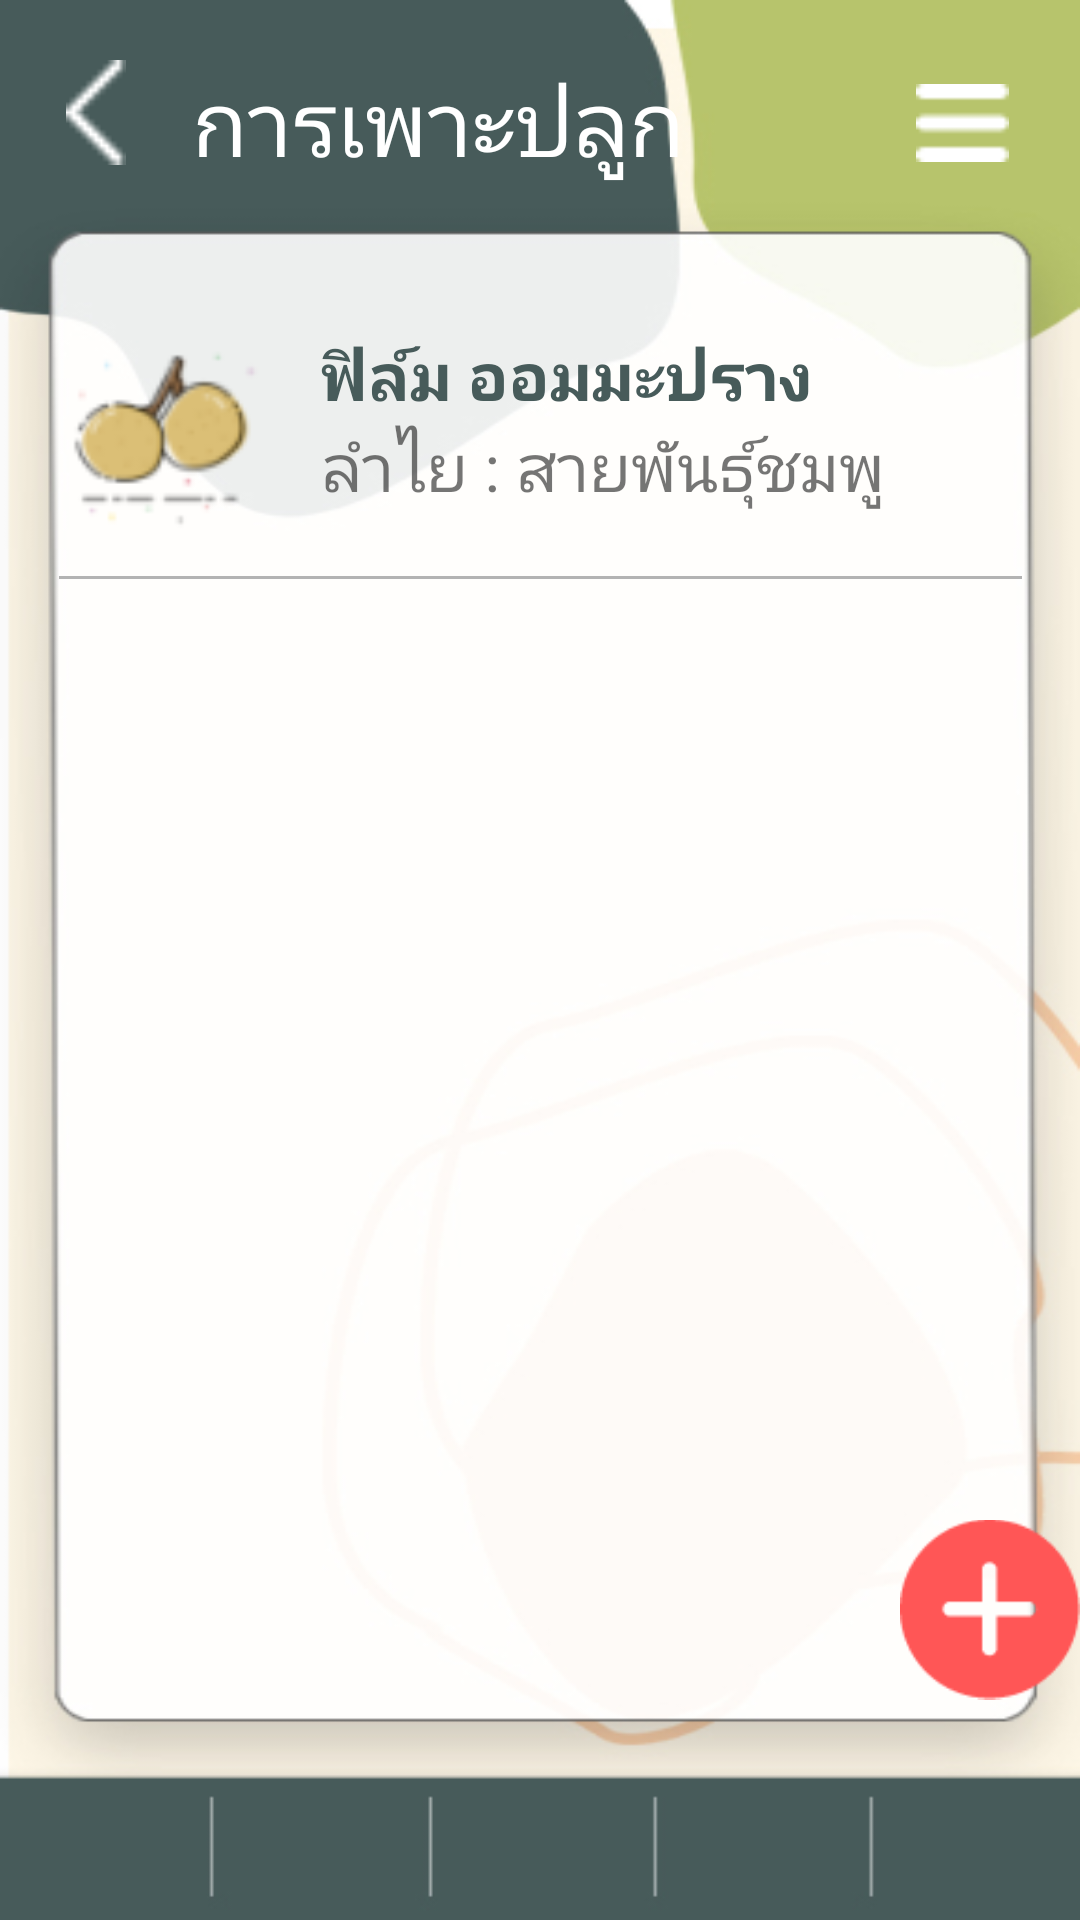

Named icons in this screenshot (1080×1920) and their bounding boxes, (x1,y1,x2,y2):
longanfruit: (8,330,321,531)
menusymbol: (916,84,1009,162)
plus: (900,1479,1080,1740)
